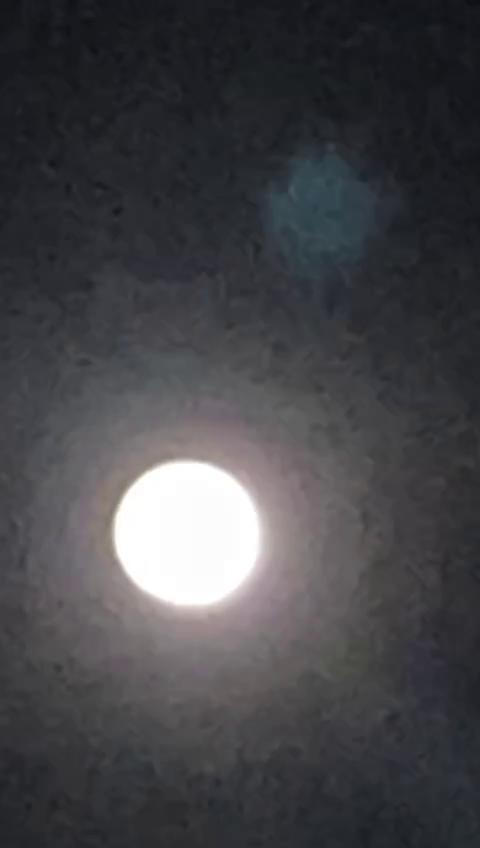moon: (99, 444, 271, 635)
